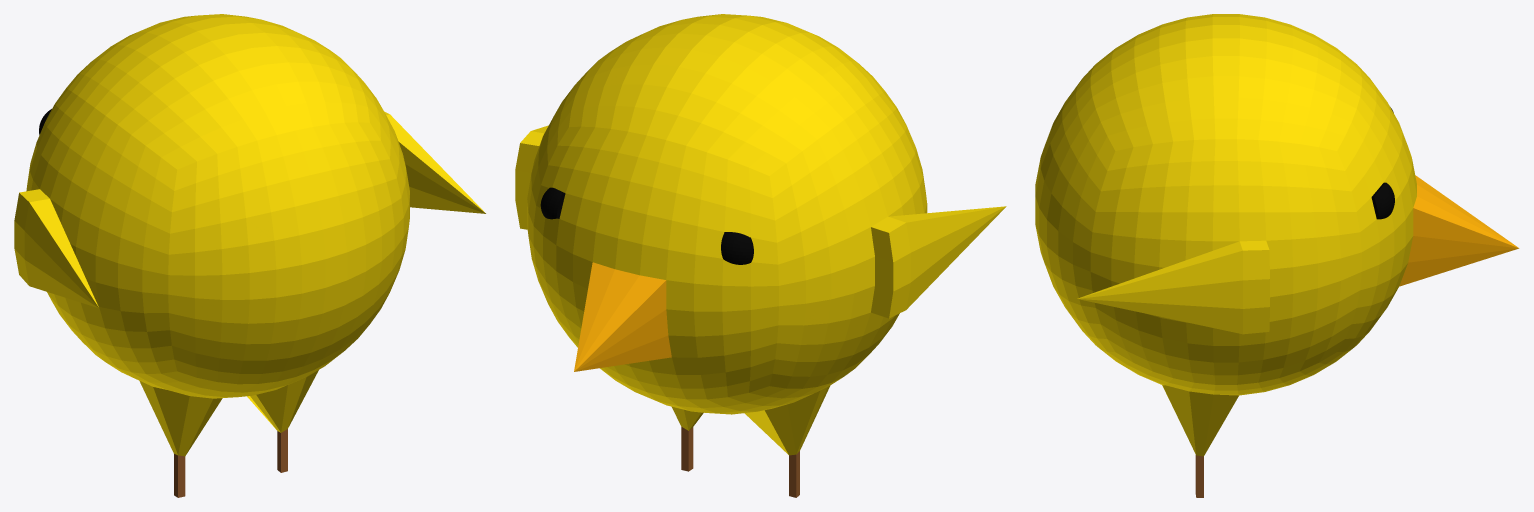
Rendered from Chicken.fbx.
3 views of the same model, side by side, from view 1: azimuth 30°, elevation 25°; view 2: azimuth 150°, elevation 25°; view 3: azimuth 270°, elevation 25° (orthographic). The views are drawn at different scales.
Visible parts, largest first — view 1: Cube; view 2: Cube; view 3: Cube.
Part boxes in pixels (left/top/right/bottom): Cube: left=14, top=14, right=485, bottom=497; Cube: left=515, top=14, right=1006, bottom=497; Cube: left=1035, top=14, right=1519, bottom=497.
Bounding box in the file's own units: 402 × 437 × 437.
